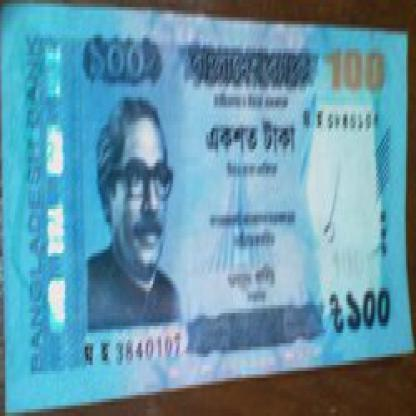one hundred taka: (85, 31, 153, 83), (326, 42, 390, 94), (343, 281, 394, 340)
